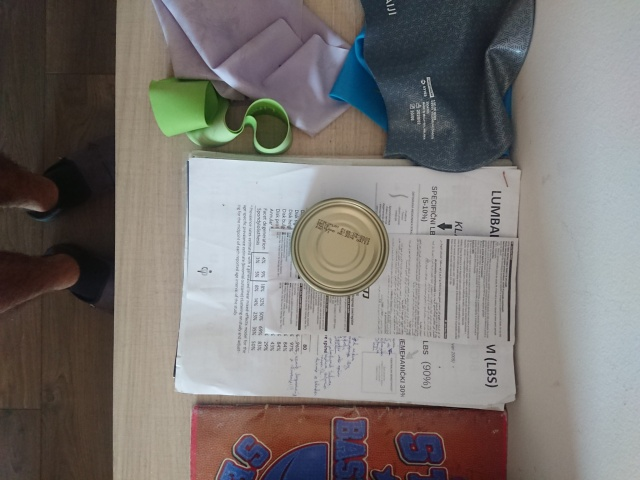Giana Tuna Salad Mexico 185g: (288, 195, 392, 299)
